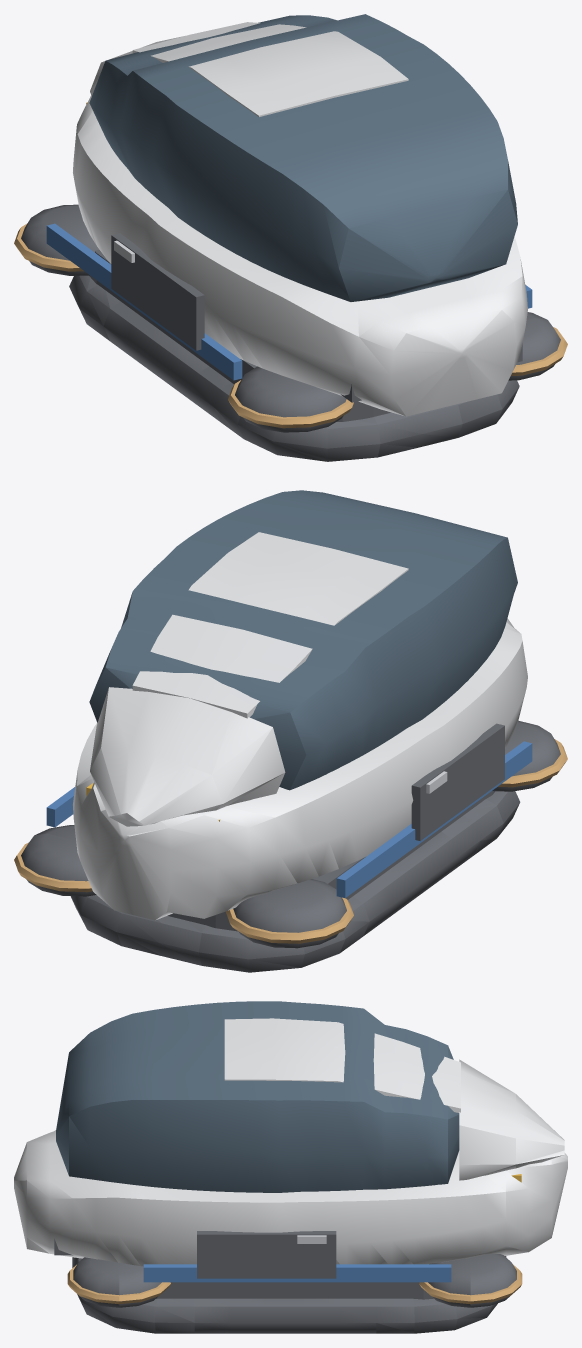
The model's file is hover-transit-and-antigrav-fleet-commuter-pod-two-seat-b22e8306__17069.glb.
3 views of the same model, one above another, from view 1: azimuth 30°, elevation 25°; view 2: azimuth 150°, elevation 25°; view 3: azimuth 270°, elevation 25° (orthographic). The views are drawn at different scales.
Visible parts, largest first — view 1: commuter-pod-two-seat; view 2: commuter-pod-two-seat; view 3: commuter-pod-two-seat.
Boxes of the visible parts, <box> form: commuter-pod-two-seat: <box>14,14,567,461</box>; commuter-pod-two-seat: <box>14,490,567,972</box>; commuter-pod-two-seat: <box>14,1001,567,1333</box>.
Size of the model in its own units: 1.89 by 1.64 by 3.42.
